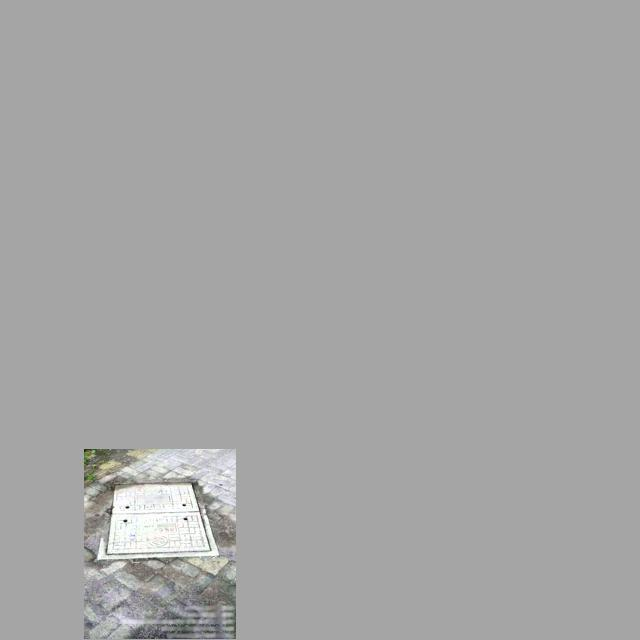good: (98, 479, 220, 560)
